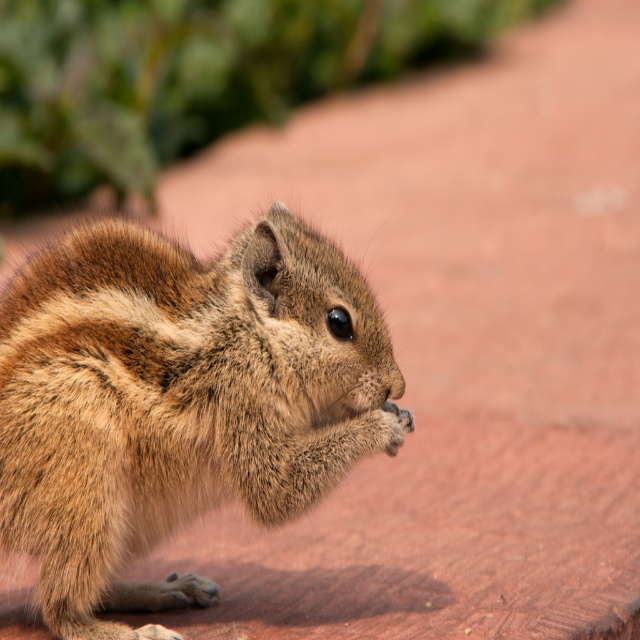Squirrel: (0, 176, 418, 640)
